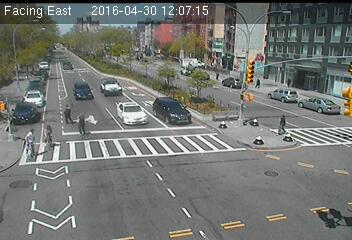neg: (106, 97, 124, 122), (56, 153, 73, 176), (177, 139, 192, 160), (77, 41, 92, 61), (119, 145, 134, 164), (263, 165, 275, 181), (50, 63, 61, 78), (254, 49, 265, 63), (1, 98, 12, 112), (130, 49, 140, 63), (191, 53, 200, 66), (178, 87, 187, 99), (105, 76, 112, 85)
pos: (20, 127, 41, 156), (38, 124, 56, 148), (72, 112, 90, 135), (59, 103, 76, 126), (274, 112, 290, 133), (254, 76, 263, 88), (285, 77, 293, 88)
